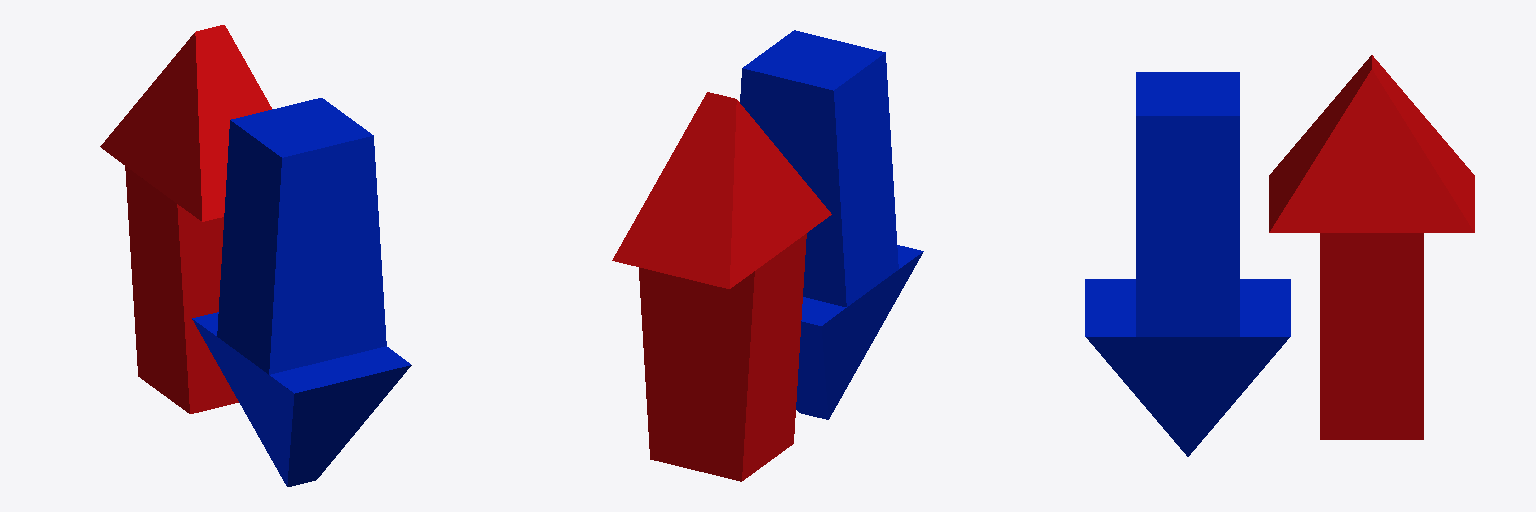
File: arrows-v1.obj
3 views of the same model, side by side, from view 1: azimuth 30°, elevation 25°; view 2: azimuth 150°, elevation 25°; view 3: azimuth 270°, elevation 25° (orthographic).
Parts seen in each view (by area): view 1: ArrowDown, ArrowUp; view 2: ArrowUp, ArrowDown; view 3: ArrowUp, ArrowDown.
Boxes of the visible parts, box(x1,y1,x2,y2) form: ArrowDown: box(192, 98, 411, 486); ArrowUp: box(100, 25, 271, 413); ArrowUp: box(612, 92, 831, 481); ArrowDown: box(740, 30, 923, 419); ArrowUp: box(1269, 55, 1474, 439); ArrowDown: box(1085, 72, 1290, 456).
Bounding box in the file's own units: 0.4815 × 1.52 × 1.38.